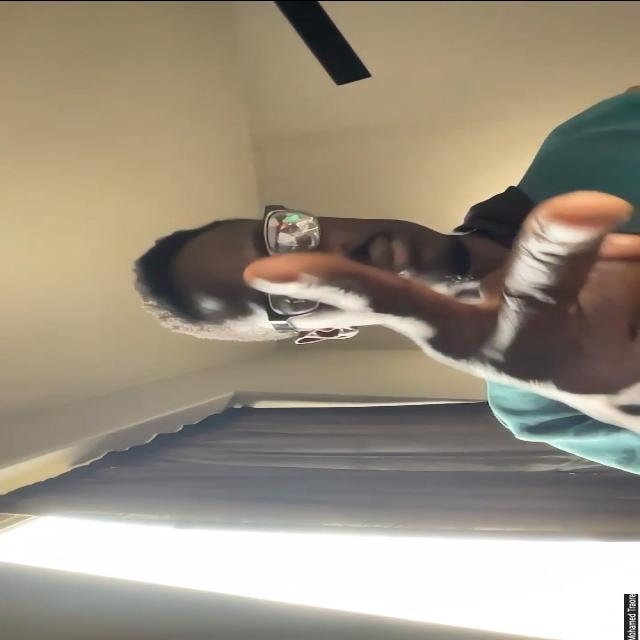Scissors: (242, 190, 640, 427)
